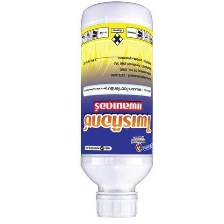insecticide: (75, 0, 159, 220)
